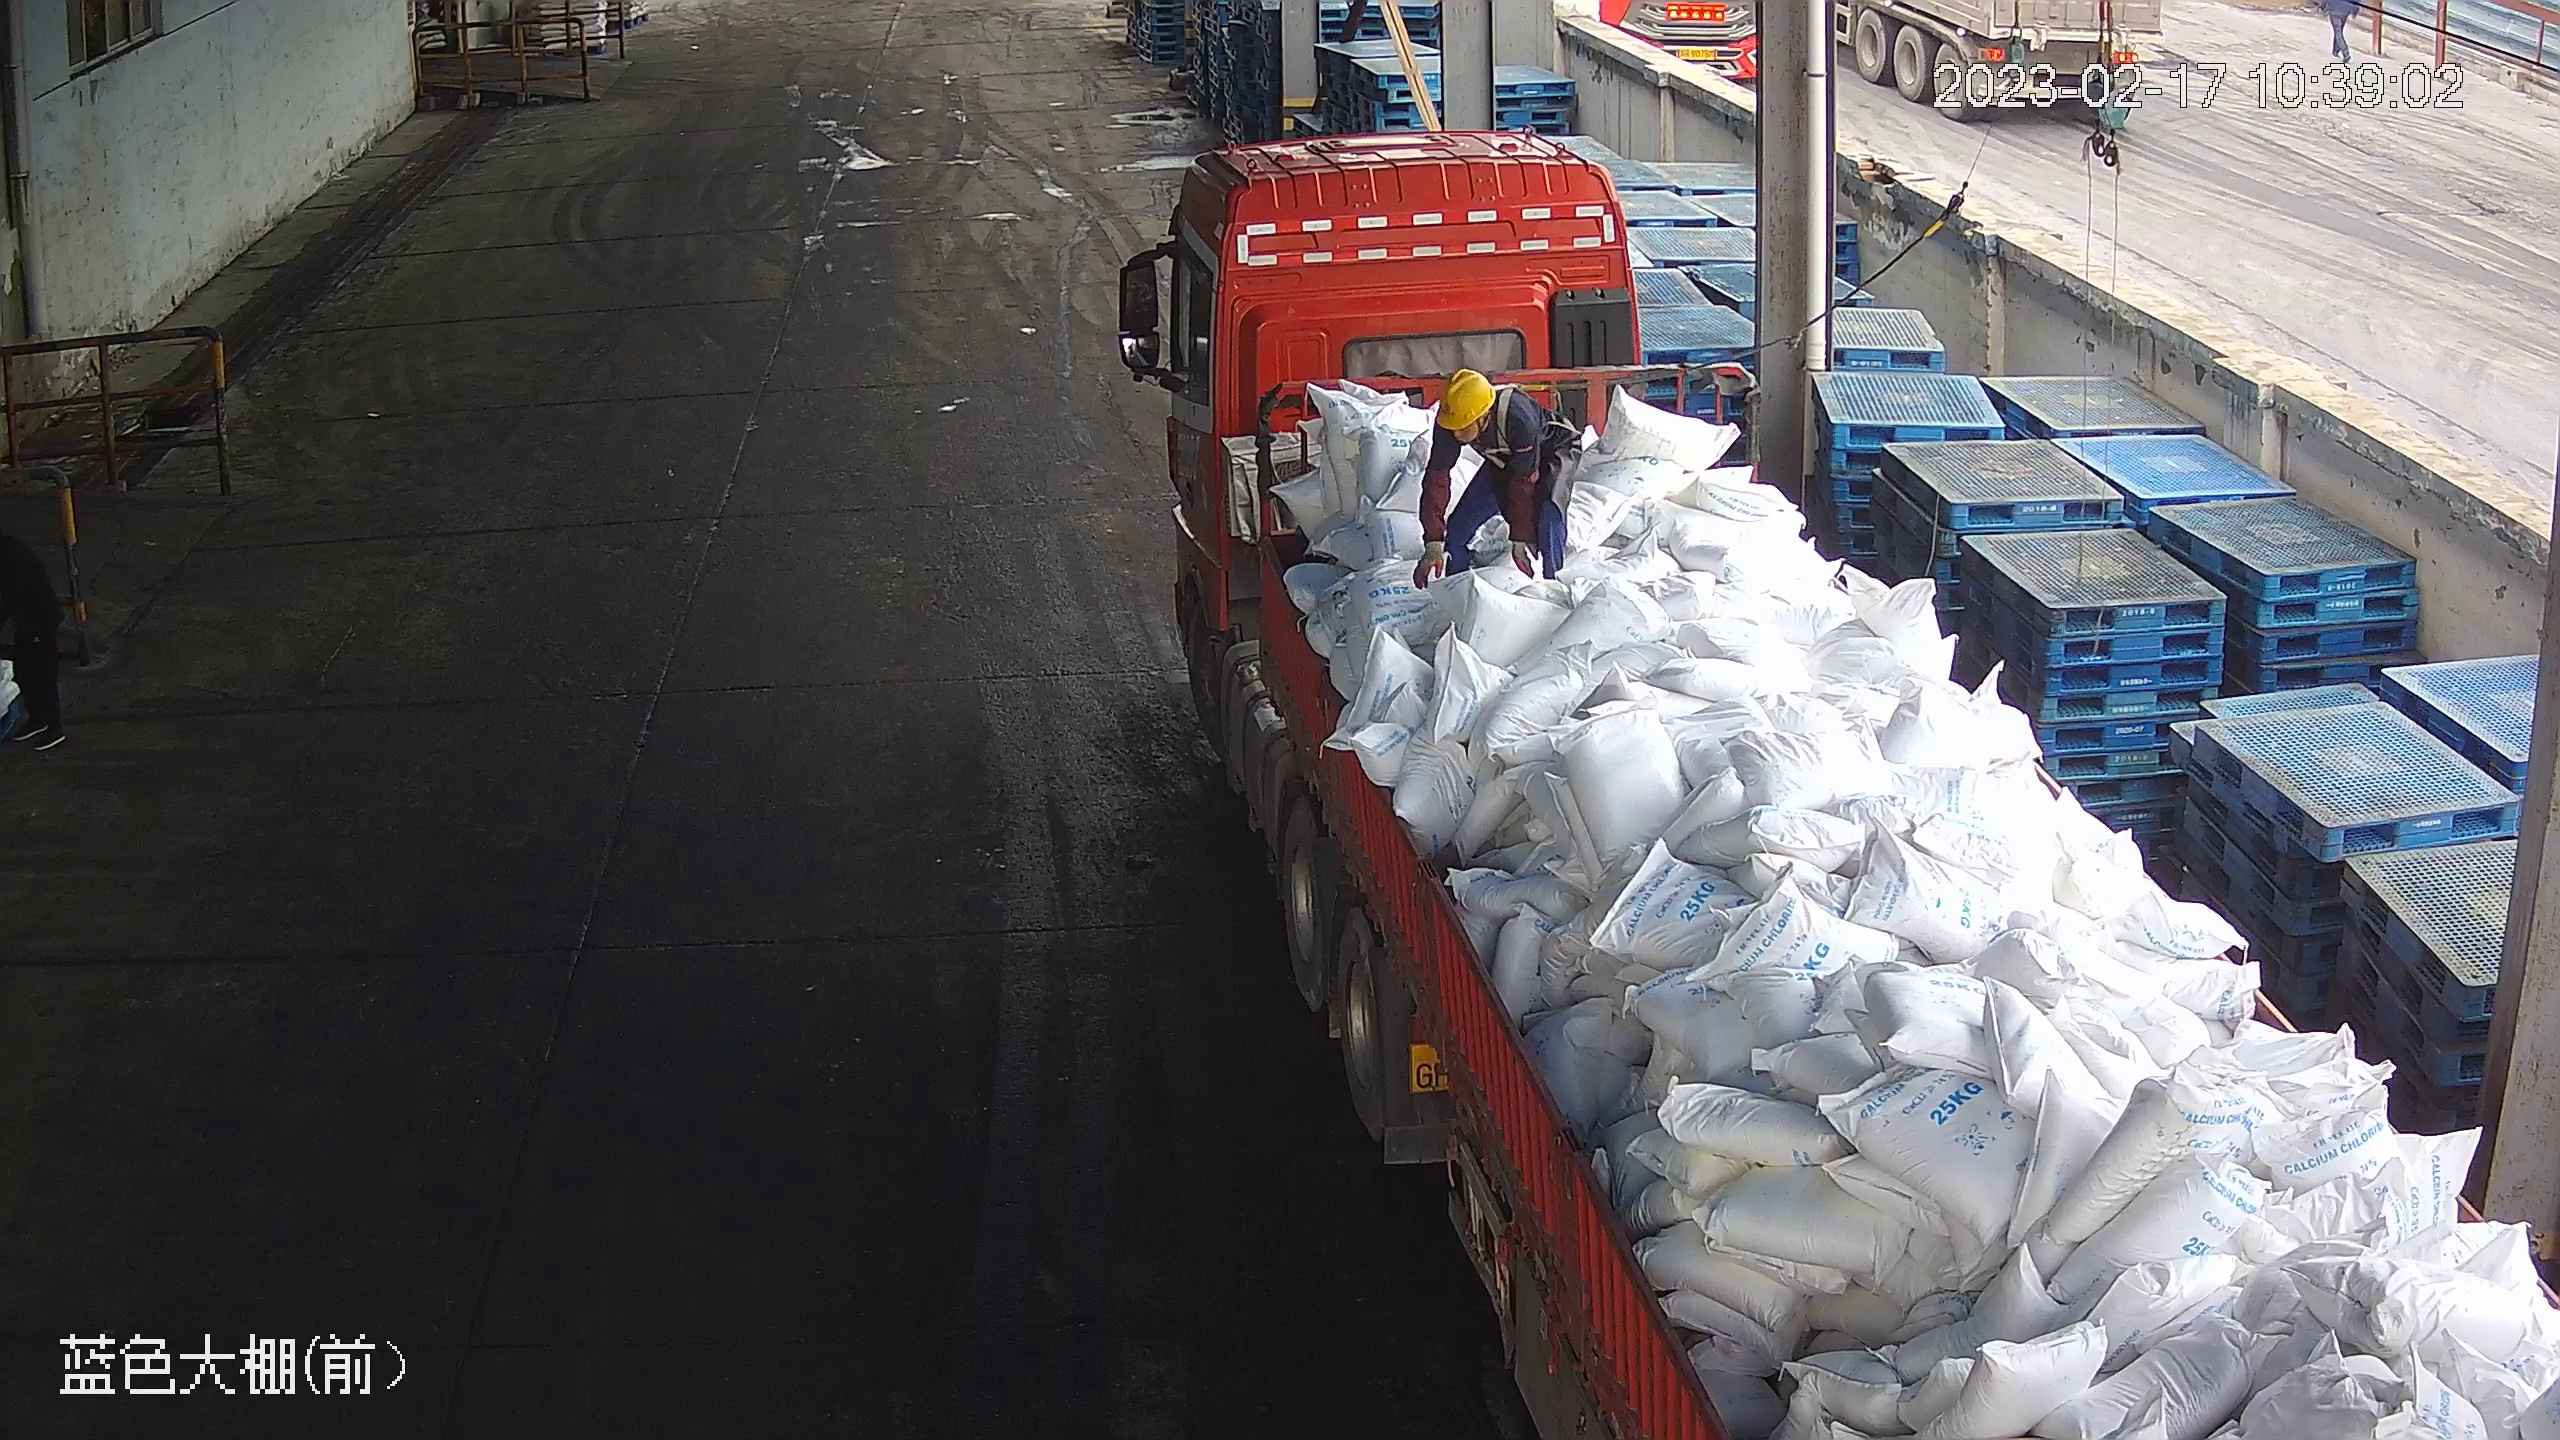belt: (1481, 382, 1537, 469)
head: (1429, 367, 1542, 452)
helmet: (1434, 368, 1494, 432)
people: (1415, 367, 1579, 595)
truck: (1116, 125, 2558, 1439)
